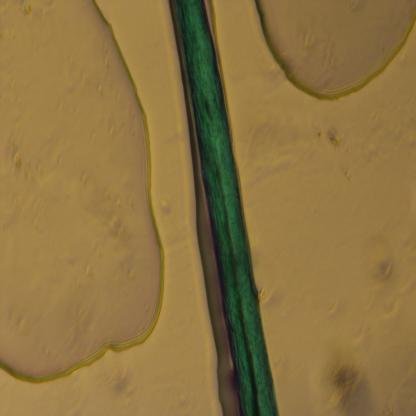Air bubble: (0, 1, 163, 374), (254, 0, 416, 106)
Background material: (248, 118, 311, 172), (326, 360, 376, 414), (101, 354, 142, 405), (372, 248, 396, 285), (318, 126, 348, 152), (380, 294, 402, 320)
Microfibre: (174, 0, 280, 415)
